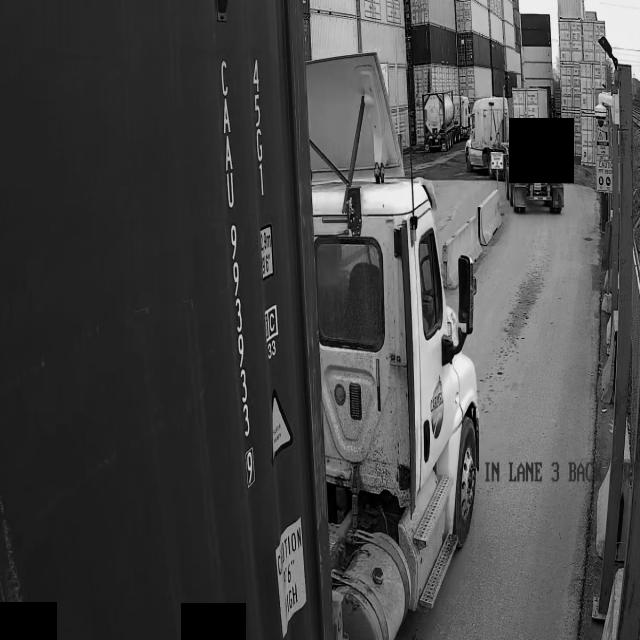container_side_no: (214, 39, 263, 495)
truck_company: (431, 377, 443, 437)
truck_with_container: (0, 0, 478, 640)
truck_without_container: (466, 97, 563, 212)
